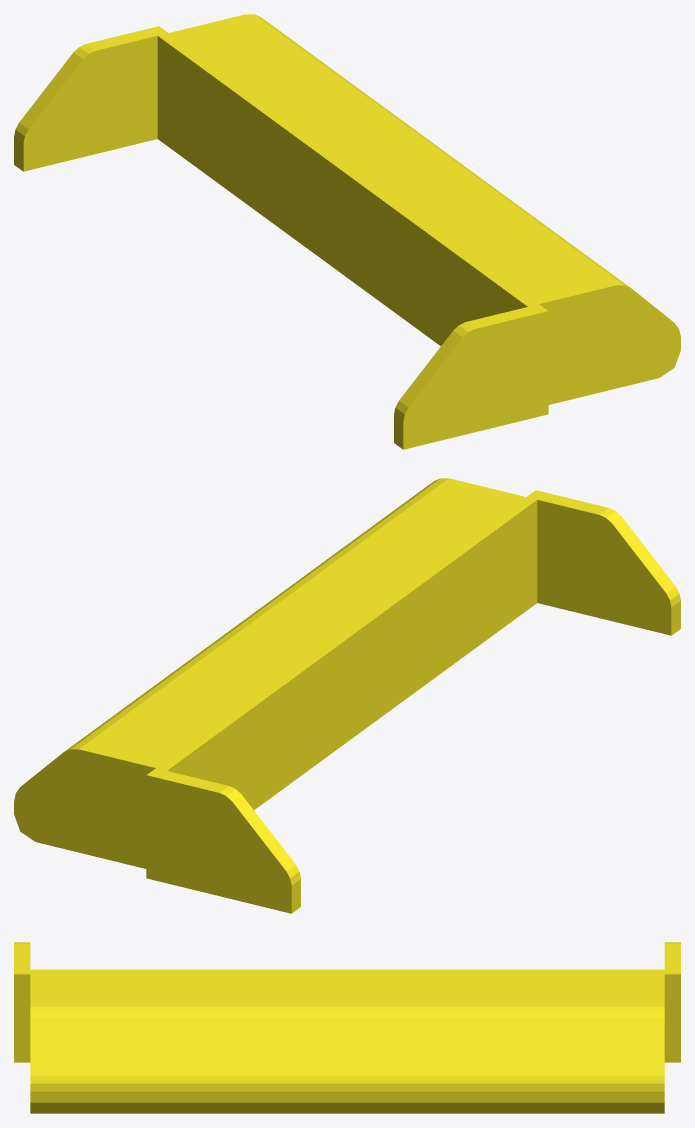
Rendered from ConveyorPart.fbx.
3 renders of one model, top to bottom at view 1: azimuth 30°, elevation 25°; view 2: azimuth 150°, elevation 25°; view 3: azimuth 270°, elevation 25°, orthographic. The views are drawn at different scales.
Visible parts, largest first — view 1: Cube_119.017; view 2: Cube_119.017; view 3: Cube_119.017.
Part boxes in pixels (x1,y1,x2,y2): Cube_119.017: (14, 14, 680, 449); Cube_119.017: (14, 478, 680, 913); Cube_119.017: (14, 942, 680, 1113).
Size of the model in its own units: 1.99 by 0.6835 by 4.67.
